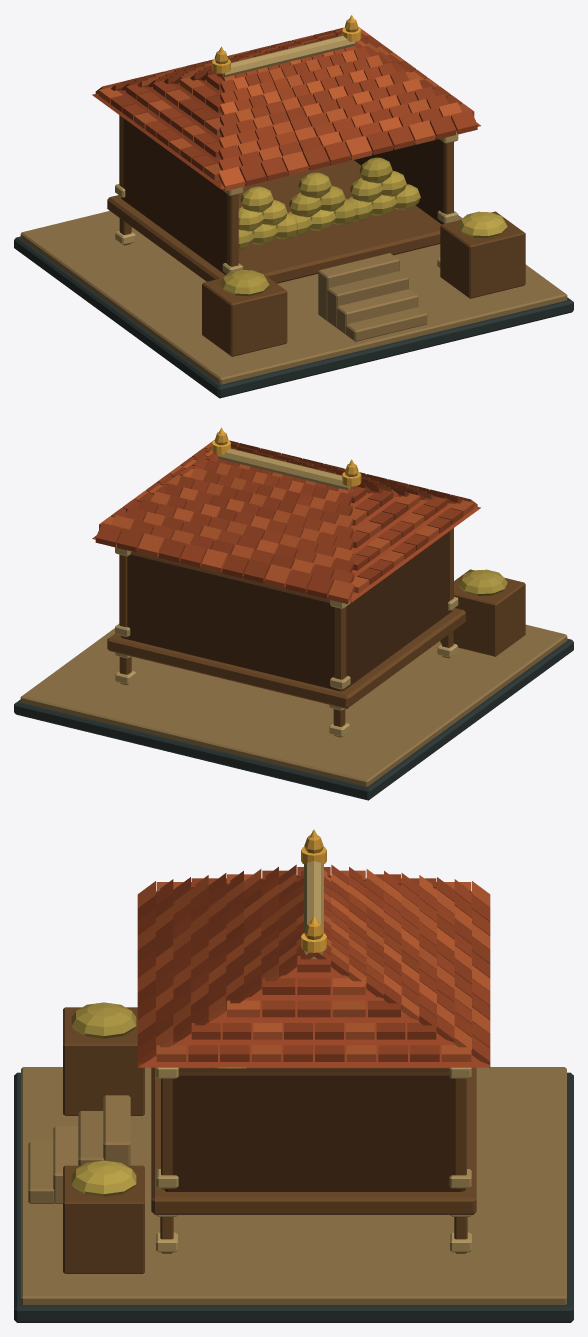
3 views of the same model, one above another, from view 1: azimuth 30°, elevation 25°; view 2: azimuth 150°, elevation 25°; view 3: azimuth 270°, elevation 25° (orthographic). The views are drawn at different scales.
Visible parts, largest first — view 1: granary_3_structure; view 2: granary_3_structure; view 3: granary_3_structure, granary_3_metal.
Boxes of the visible parts, x1=… form: granary_3_structure: x1=14, y1=19, x2=573, y2=398; granary_3_structure: x1=14, y1=432, x2=573, y2=800; granary_3_structure: x1=14, y1=835, x2=573, y2=1322; granary_3_metal: x1=301, y1=829, x2=326, y2=952.
Bounding box in the file's own units: 5.6 × 3.68 × 5.6.
